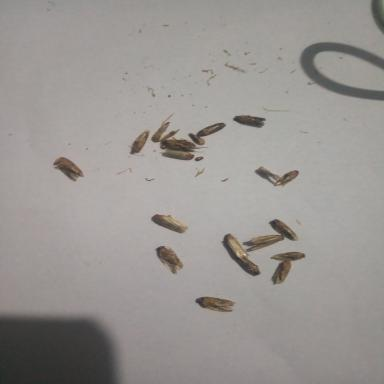pbw: (151, 113, 179, 143), (156, 245, 184, 274), (158, 138, 208, 152), (152, 214, 188, 233), (55, 157, 83, 181), (224, 234, 252, 258), (195, 296, 236, 312), (128, 129, 150, 156), (249, 234, 285, 250), (272, 218, 298, 240), (233, 114, 266, 128), (196, 122, 226, 137), (238, 257, 261, 276), (274, 260, 291, 285), (274, 170, 299, 187), (159, 149, 194, 160), (270, 252, 305, 261)
